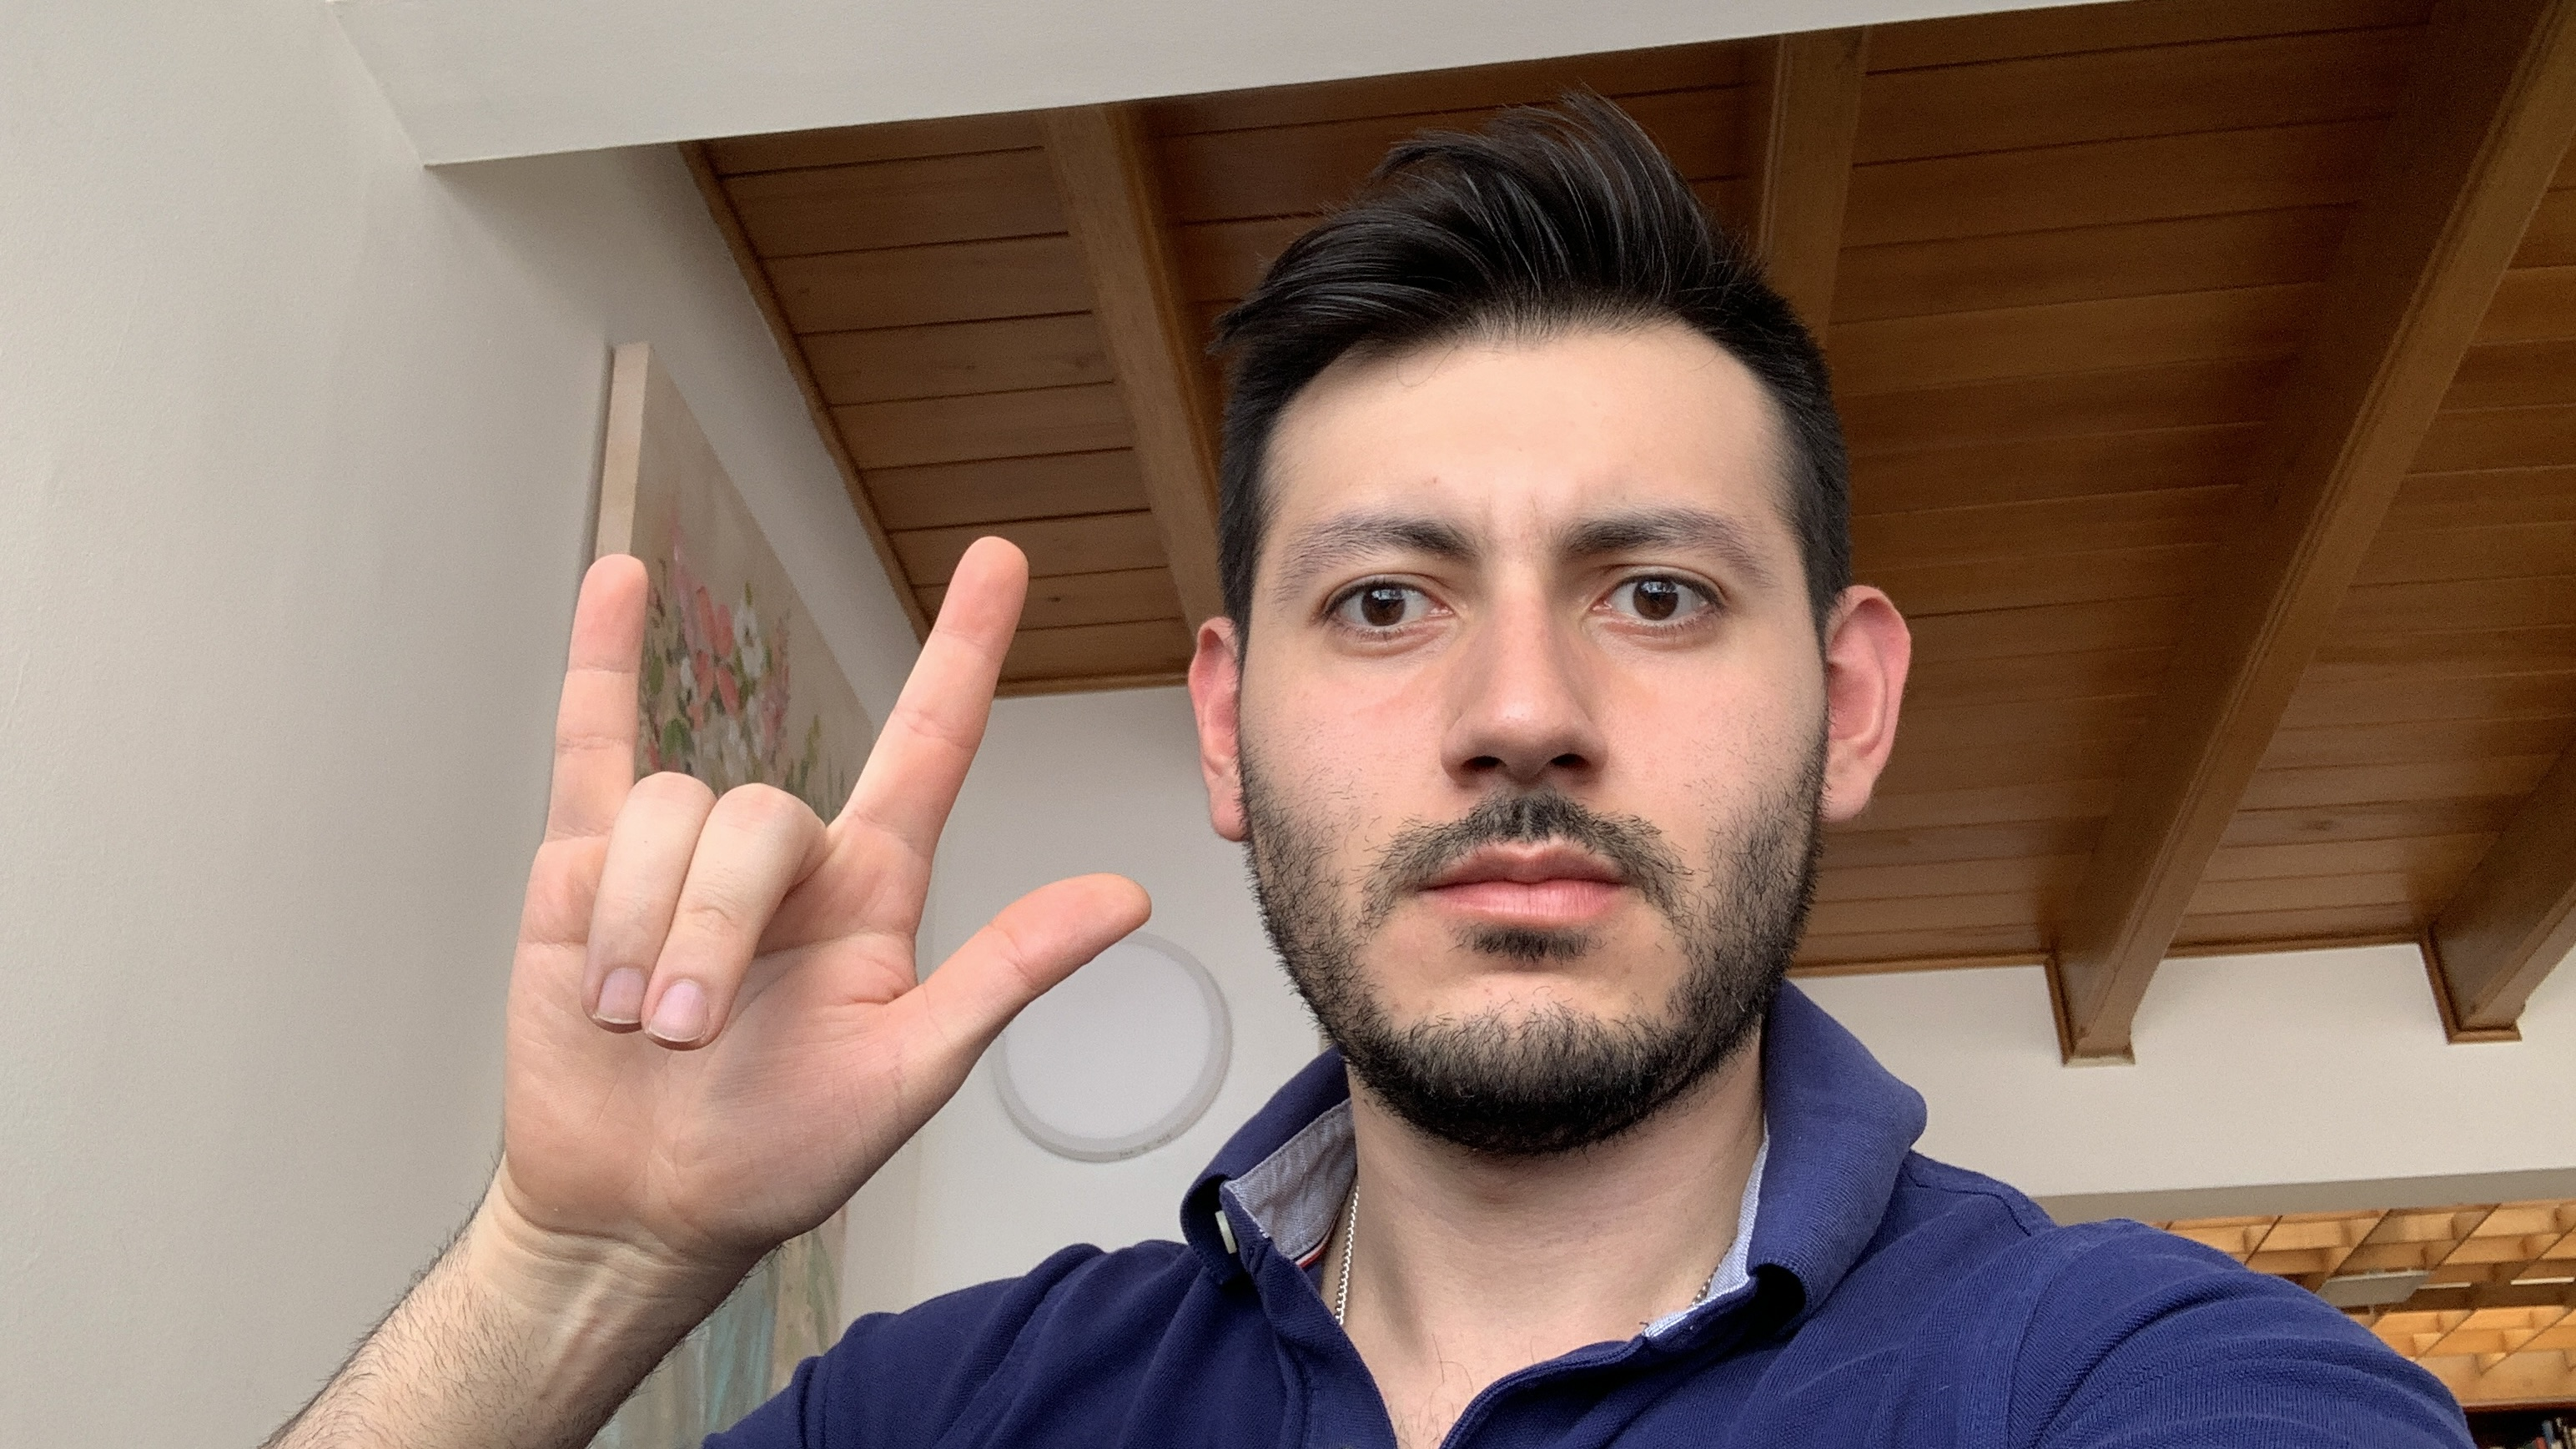I Love You: (485, 520, 1162, 1302)
